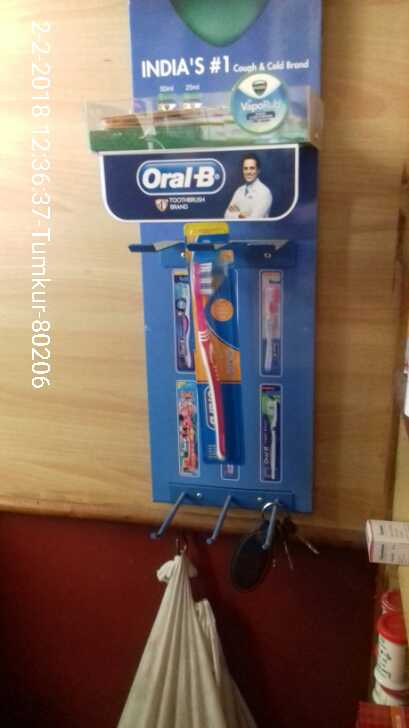oralb: (188, 261, 246, 463)
